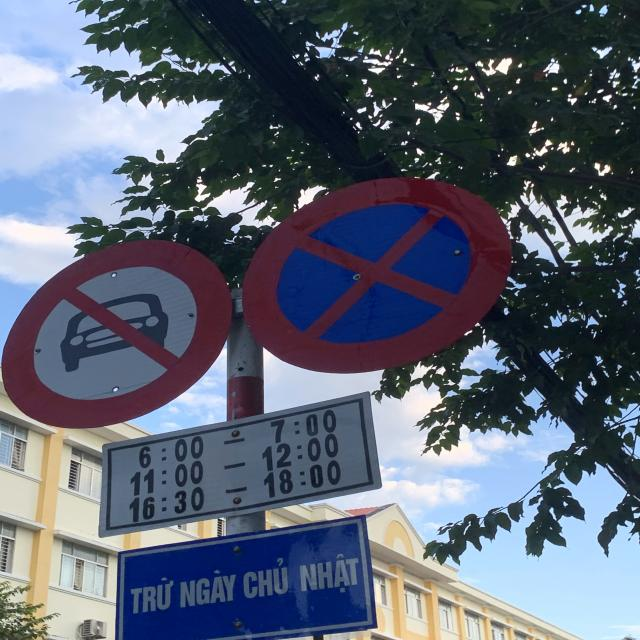Cam_Dung_Va_Dau_Xe: (239, 174, 513, 374)
Cam_O_To: (0, 240, 242, 430)
